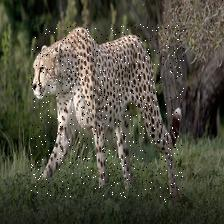Cheetha: (32, 24, 185, 202)
